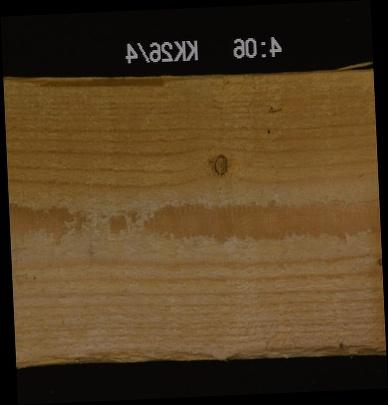dry_knot: (211, 151, 230, 174)
wave: (14, 334, 385, 361), (2, 73, 172, 93)
